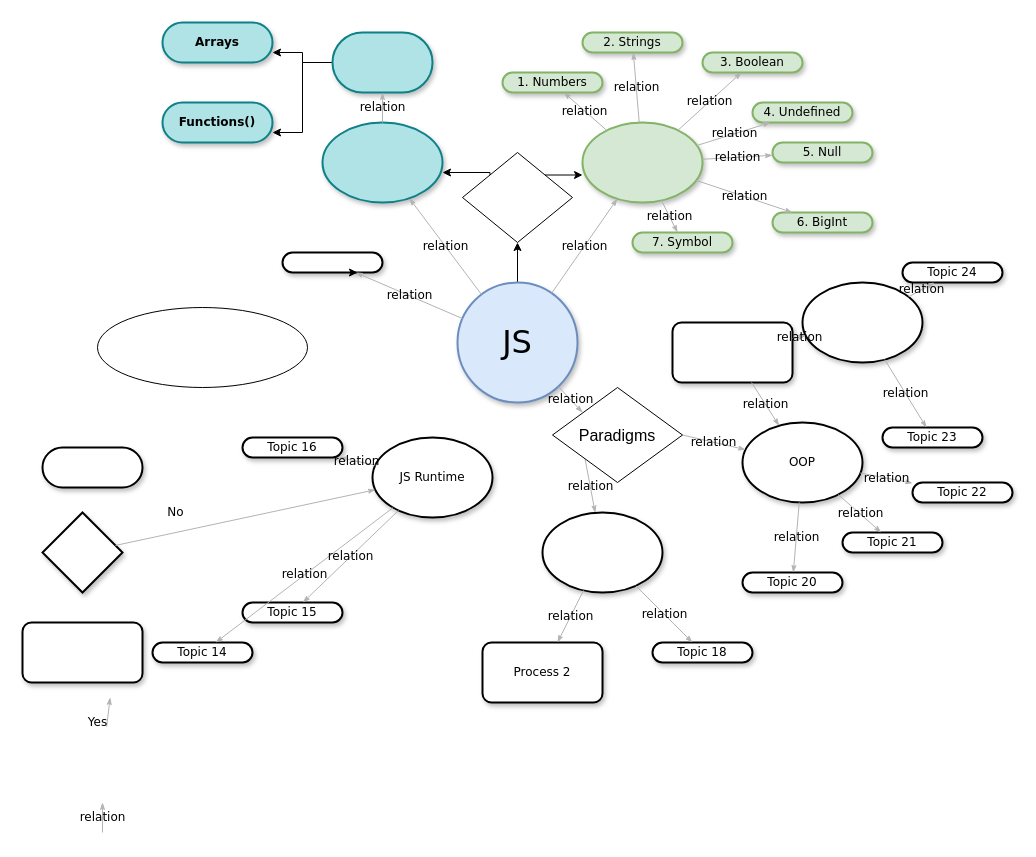
Image size: 1036x857. Some labels were removed from this diagram. The centre of each missing label's shape, as x and y in pixels:
Async: [333,263]
Condition: [83,553]
End: [93,468]
FP: [603,553]
Modules: [202,347]
Objects: [383,63]
Primitives: [643,163]
Process 3: [83,653]
Reference Types: [383,163]
Sub-node 3: [863,323]
this: [733,353]
TYPES: [517,197]
